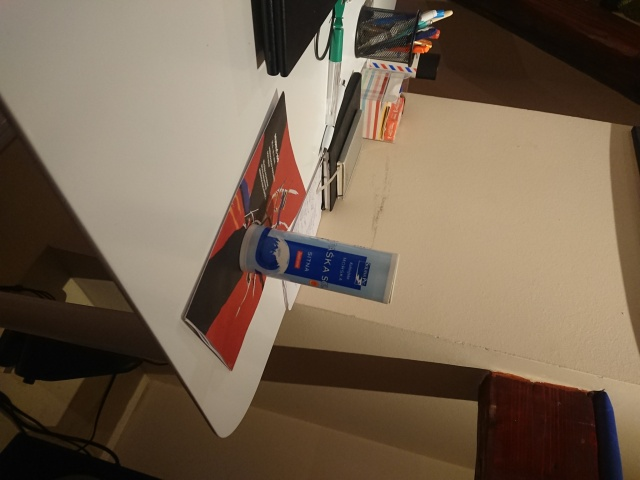Solana Pag Fine Sea Salt 250g: (237, 221, 401, 308)
